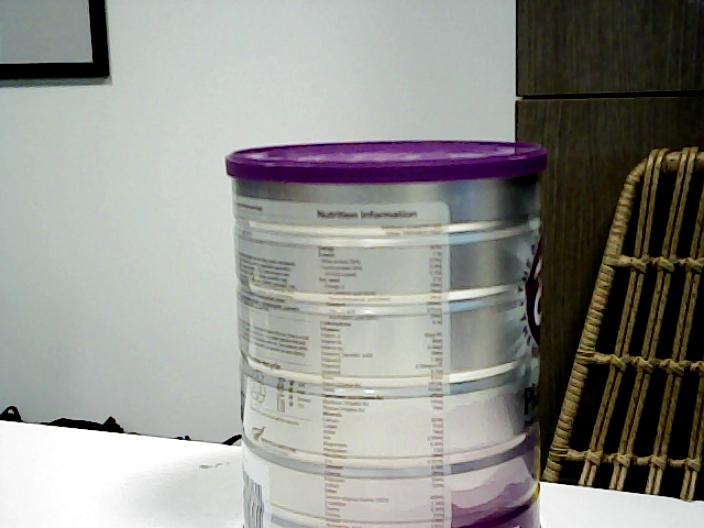Babymilk-powder_900-999g_NonHalal_NonHealthy: (223, 137, 548, 528)
